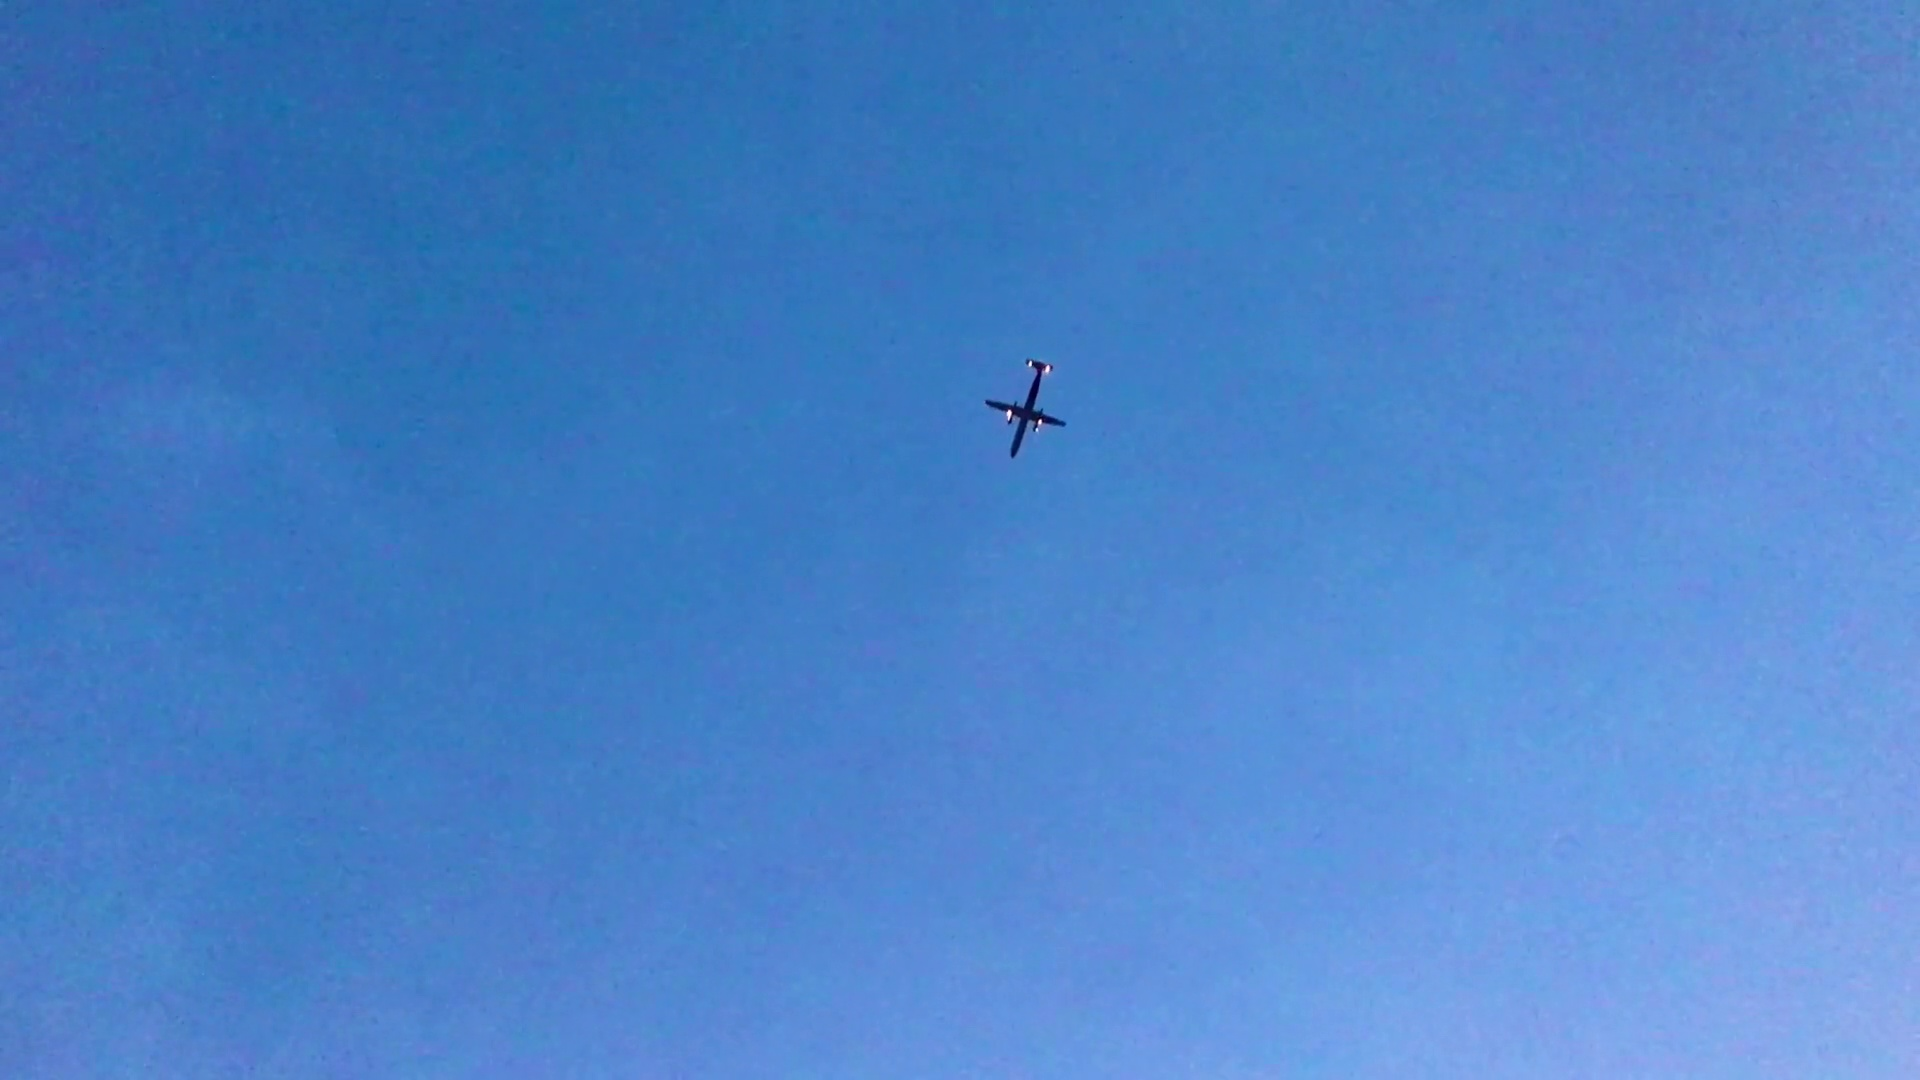plane: (984, 357, 1065, 460)
